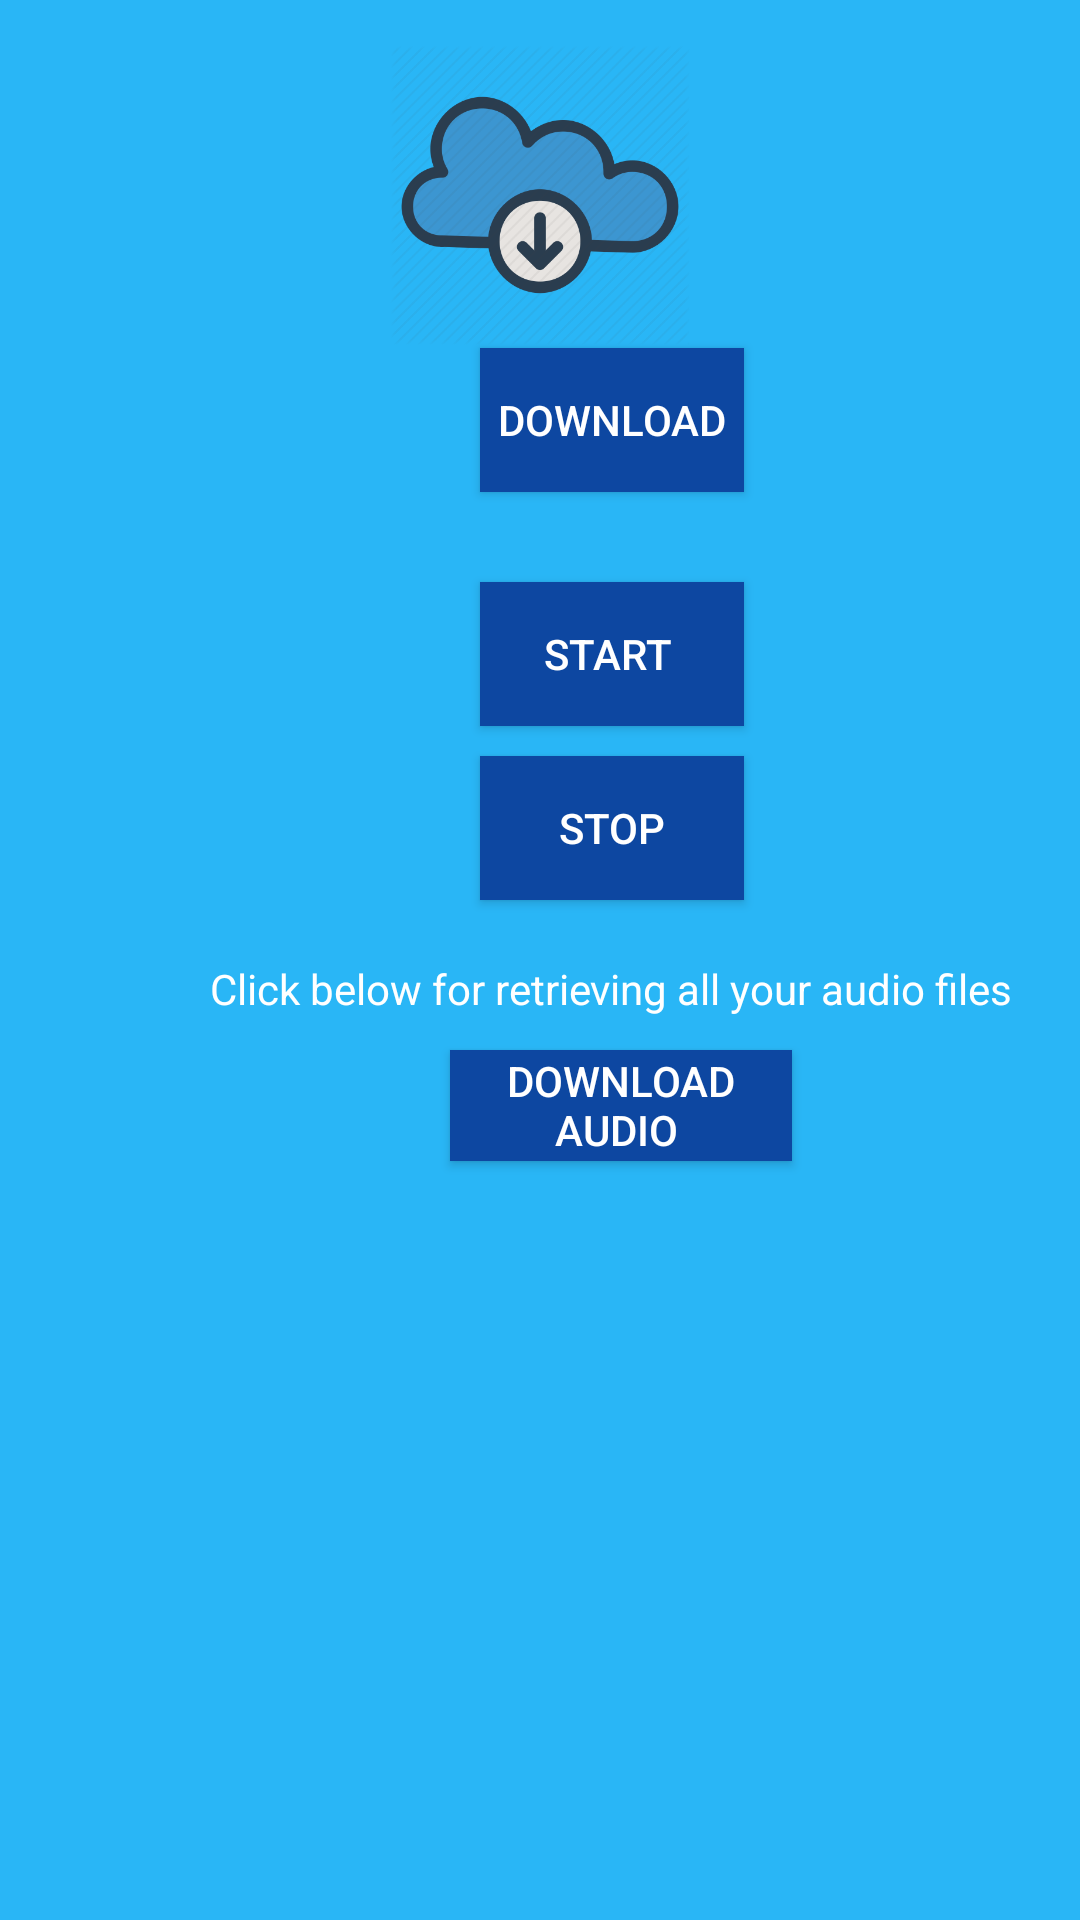

Point at icon controls on the screen. Image size 1080x1920, points as (x,y).
cloud: (540,195)
